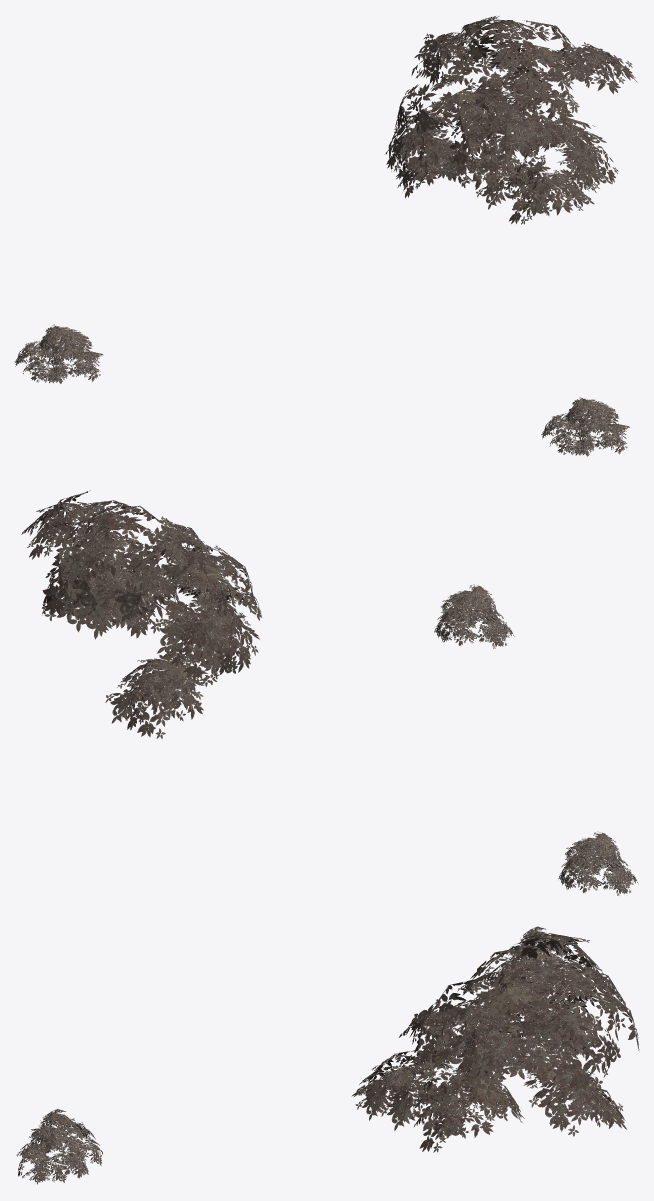
File: Area09_28.fbx
3 renders of one model, top to bottom at view 1: azimuth 30°, elevation 25°; view 2: azimuth 150°, elevation 25°; view 3: azimuth 270°, elevation 25°, orthographic. The views are drawn at different scales.
Parts seen in each view (by area): view 1: Area09_28; view 2: Area09_28; view 3: Area09_28.
Part boxes in pixels (<box>): Area09_28: <box>14,16,637,456</box>; Area09_28: <box>21,490,638,895</box>; Area09_28: <box>16,926,639,1184</box>.
Size of the model in its own units: 3250 by 1287 by 2533.
